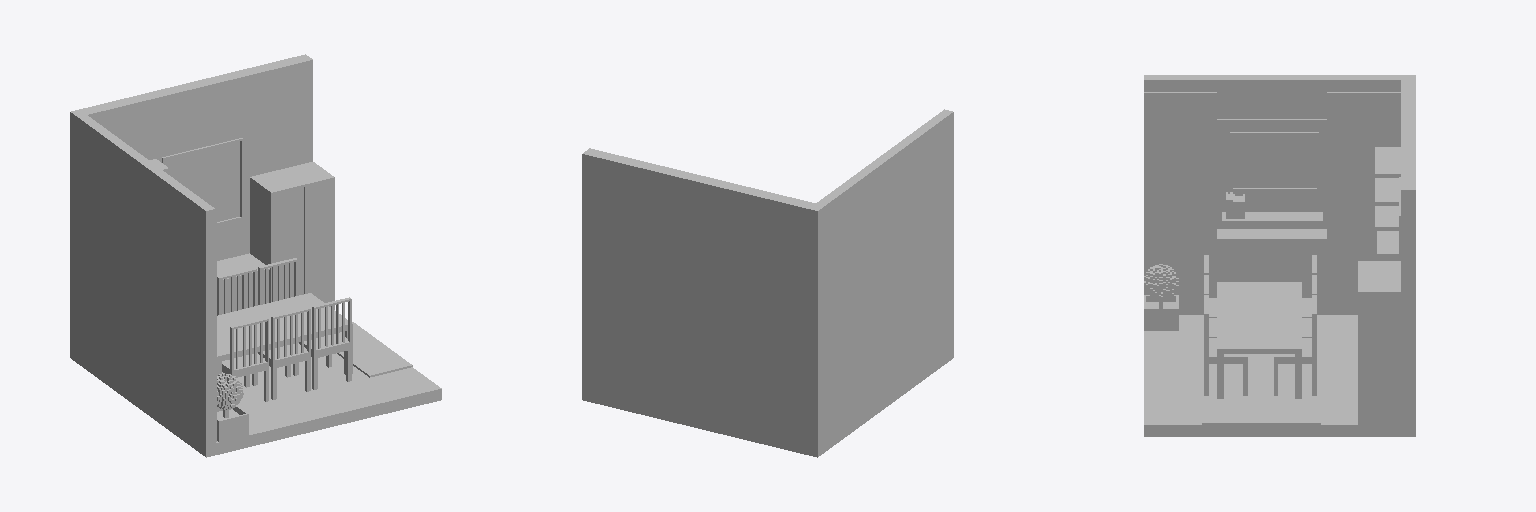
The model's file is Kitchen.obj.
3 renders of one model, left to right at view 1: azimuth 30°, elevation 25°; view 2: azimuth 150°, elevation 25°; view 3: azimuth 270°, elevation 25°, orthographic.
Bounding box in the file's own units: 126 × 126 × 126.